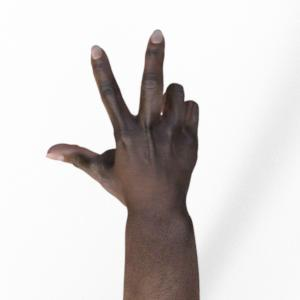scissors: (47, 31, 199, 300)
